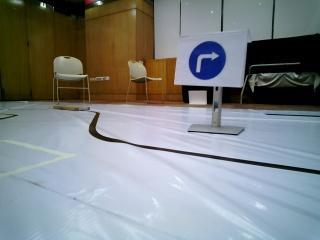right: (182, 35, 242, 90)
